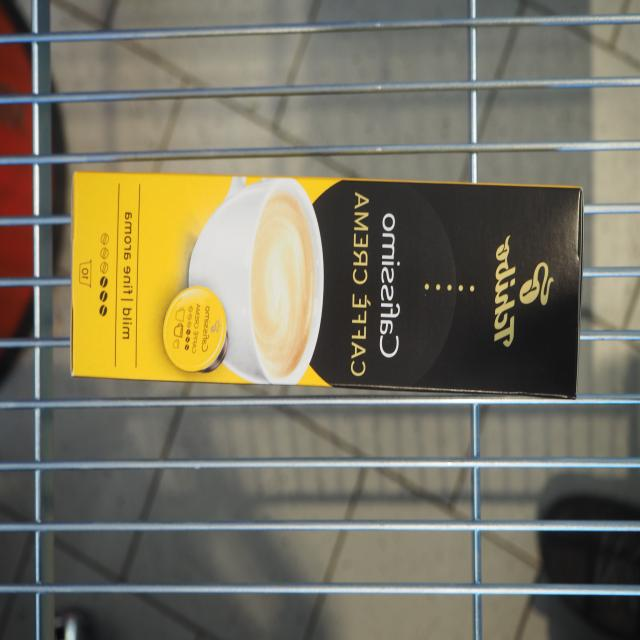Simo CCMild bigpack: (66, 165, 586, 406)
